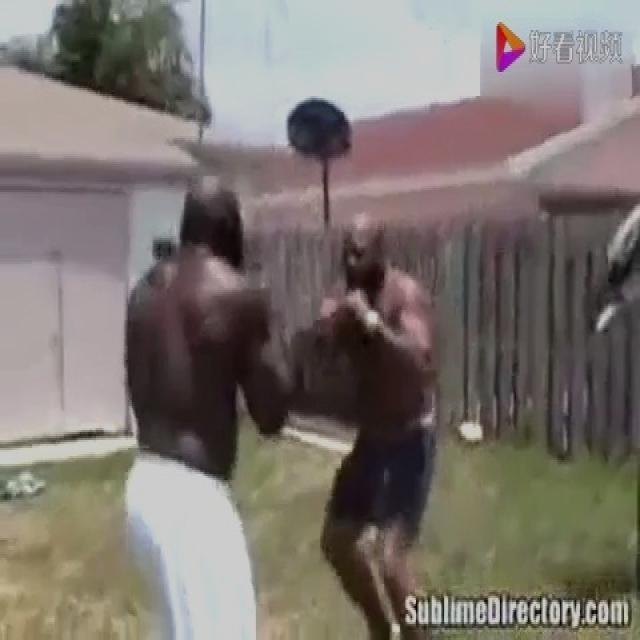fight: (115, 176, 445, 636)
